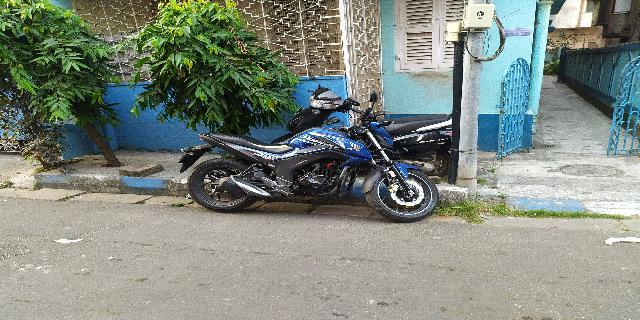Motorbike: (182, 105, 445, 230), (275, 81, 461, 169)
